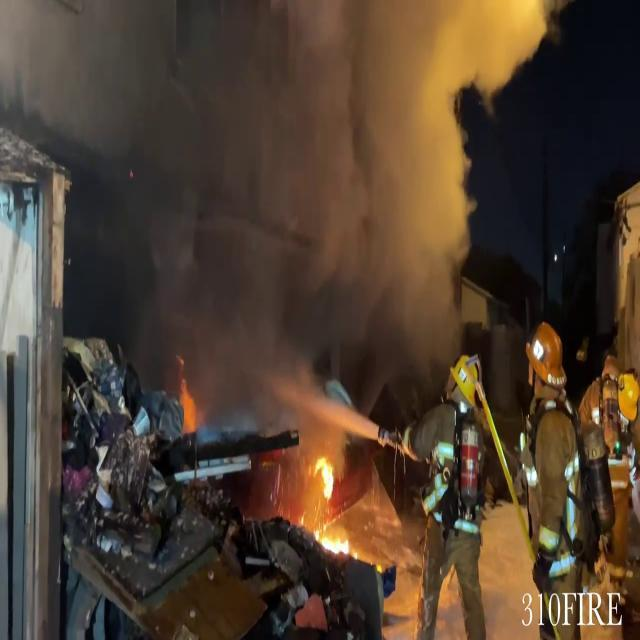Fire: (174, 363, 202, 438), (311, 452, 339, 504)
Smoke: (2, 0, 522, 369)
